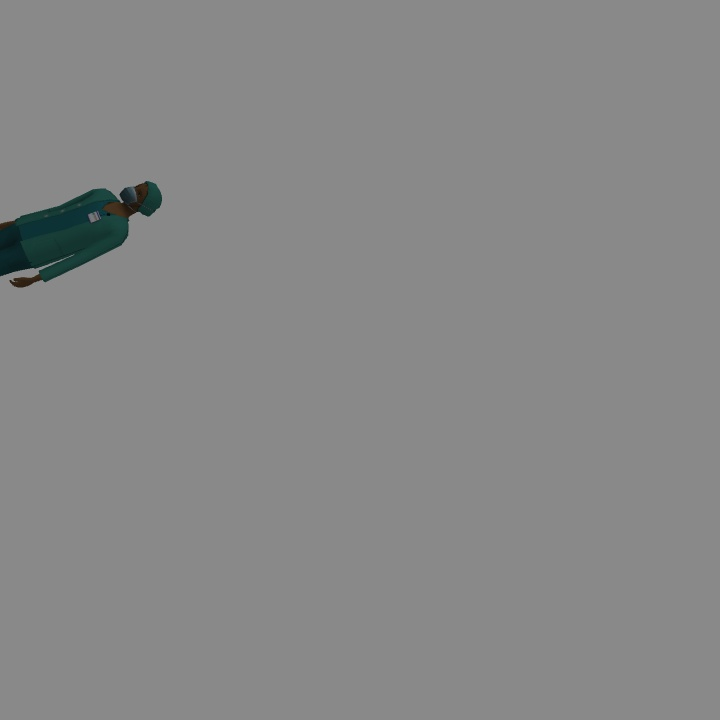victim: (2, 181, 164, 289)
